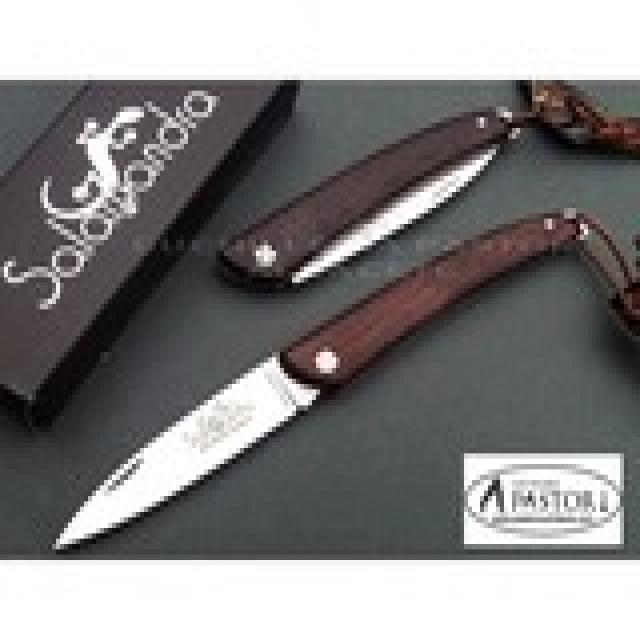Knife: (39, 107, 568, 562)
